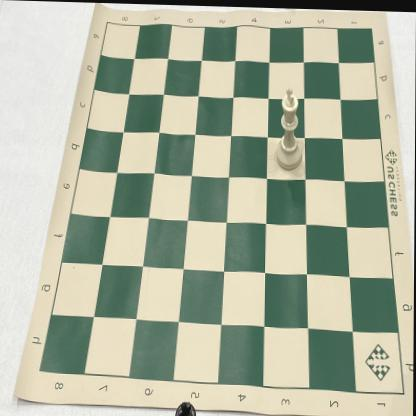white-king: (274, 83, 305, 172)
